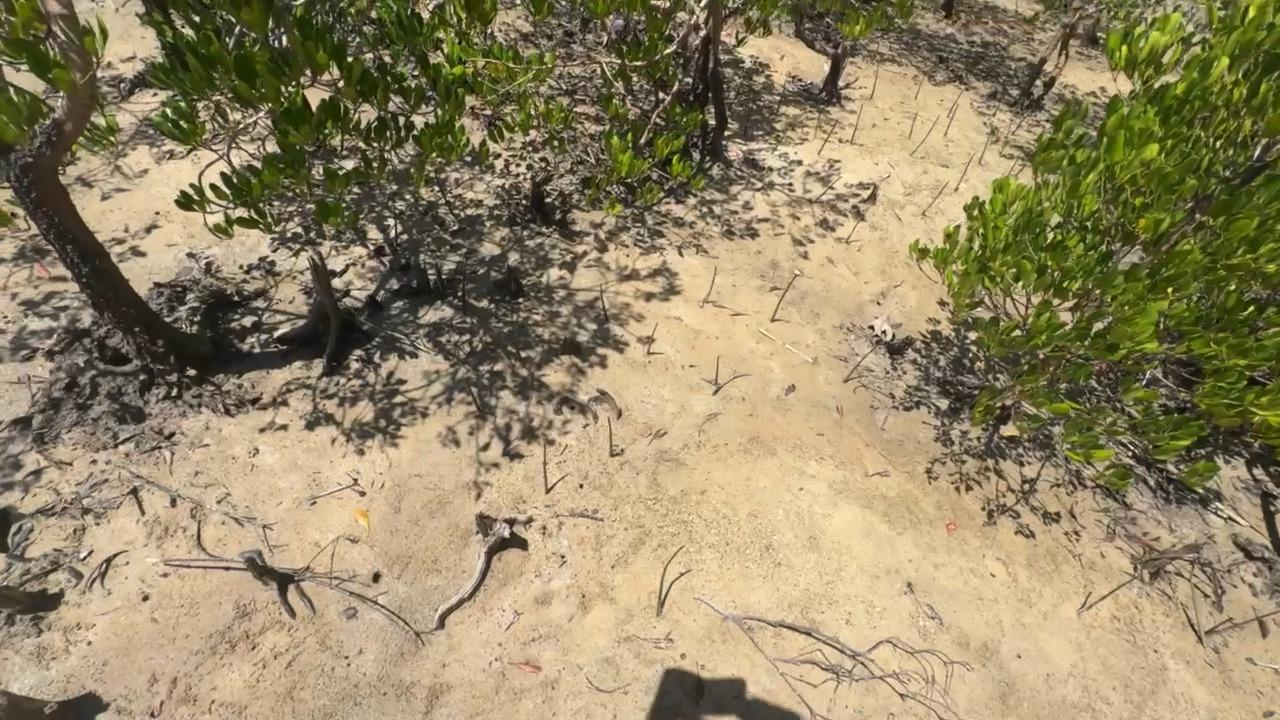Tree: (656, 544, 686, 617), (909, 111, 941, 156), (843, 343, 878, 382), (770, 276, 797, 322), (921, 180, 951, 214), (953, 151, 977, 192), (816, 118, 839, 156), (813, 175, 842, 201), (1011, 108, 1033, 135), (850, 102, 864, 143), (998, 118, 1013, 155), (946, 88, 964, 117), (943, 104, 959, 136), (1205, 616, 1233, 634), (704, 265, 717, 302), (844, 217, 862, 243), (729, 81, 744, 110), (775, 79, 788, 112), (542, 442, 550, 494), (647, 322, 659, 354), (870, 62, 880, 99), (978, 135, 991, 163), (1076, 591, 1093, 611), (600, 283, 609, 320), (992, 95, 1006, 118), (743, 105, 754, 134), (914, 73, 926, 99), (607, 416, 614, 458), (462, 257, 467, 314), (908, 111, 918, 139), (120, 485, 137, 497), (714, 355, 721, 384)
